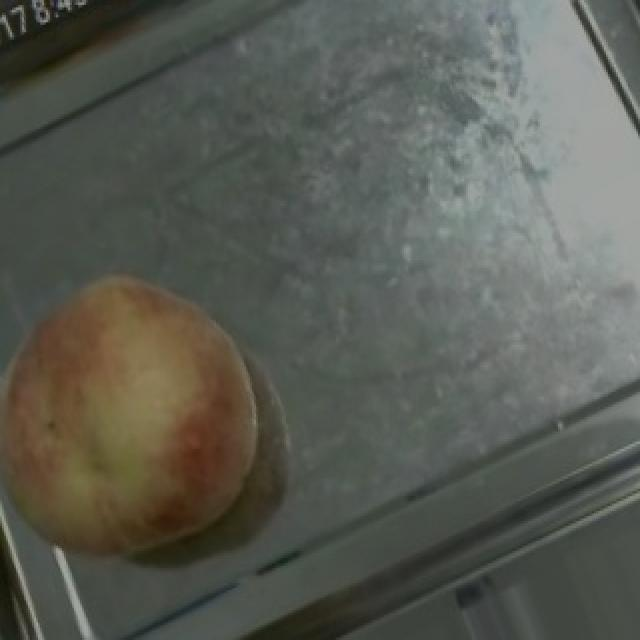Fruit: (0, 231, 304, 600)
